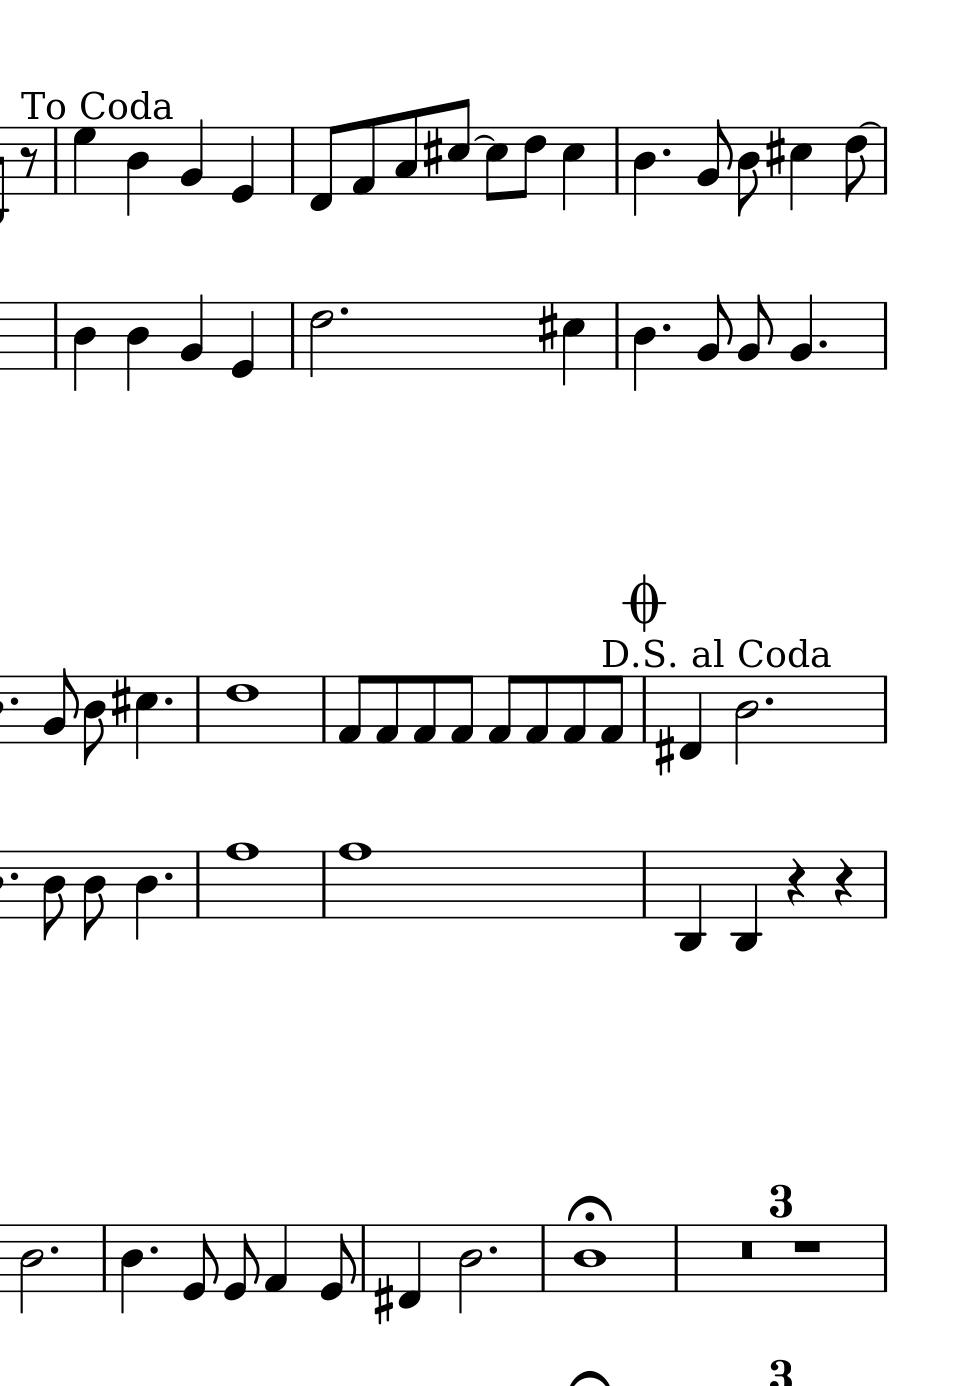1_4: (570, 1222, 607, 1295)
1_6: (223, 674, 260, 747)
1_8: (337, 840, 372, 920), (224, 840, 258, 922)
2_4: (732, 674, 759, 767), (18, 1222, 43, 1314), (456, 1222, 482, 1314)
2_6: (307, 300, 334, 378)
4_-1: (396, 1223, 422, 1312), (677, 674, 703, 762)
4_-3: (676, 846, 705, 955), (731, 847, 759, 955)
4_0: (229, 300, 256, 379), (229, 125, 255, 204)
4_1: (263, 1223, 288, 1295)
4_2: (178, 118, 205, 196), (178, 293, 205, 371), (788, 292, 813, 371)
4_4: (123, 300, 151, 394), (133, 849, 160, 940), (70, 300, 97, 393), (124, 126, 150, 217), (631, 301, 657, 392), (118, 1223, 143, 1314), (632, 125, 657, 216)
4_5: (786, 125, 811, 213), (560, 126, 585, 213), (133, 674, 158, 761), (560, 301, 584, 388)
4_7: (70, 126, 97, 197)
8_-1: (307, 123, 342, 212)
8_0: (318, 1222, 356, 1302), (181, 1222, 218, 1302), (224, 1224, 259, 1303)
8_1: (335, 673, 369, 745), (486, 673, 518, 745), (350, 116, 377, 197), (523, 673, 550, 745), (560, 673, 588, 745), (374, 673, 401, 745), (412, 673, 438, 745), (448, 673, 474, 745), (598, 676, 624, 745)
8_2: (738, 293, 774, 371), (696, 118, 732, 195), (697, 293, 732, 370), (43, 667, 77, 744)
8_3: (391, 108, 420, 197)
8_4: (80, 674, 106, 768), (80, 849, 106, 942), (734, 125, 759, 220), (40, 850, 65, 942)
8_5: (445, 97, 471, 199), (482, 125, 508, 204)
8_6: (515, 125, 547, 200), (841, 126, 869, 205)
Coda: (623, 572, 665, 633)
DSalcoda: (599, 636, 832, 671)
Fermata_above: (566, 1193, 614, 1223)
Rests1: (788, 1236, 826, 1256)
Rests4: (832, 857, 853, 908), (785, 857, 805, 908)
Rests8: (17, 144, 39, 179)
Sharp: (535, 301, 558, 354), (764, 126, 785, 180), (372, 1274, 395, 1324), (110, 676, 132, 729), (653, 725, 675, 776), (421, 127, 442, 177)
Single_barline: (314, 850, 334, 918), (875, 1224, 894, 1292), (189, 852, 207, 917), (876, 850, 893, 919), (608, 303, 626, 368), (315, 676, 332, 743), (876, 676, 893, 743), (875, 128, 892, 194), (876, 302, 893, 368), (189, 676, 206, 741), (667, 1225, 684, 1291), (636, 850, 652, 919), (608, 128, 625, 192), (636, 676, 652, 743), (284, 127, 300, 194), (284, 303, 300, 369), (97, 1225, 112, 1291), (355, 1225, 371, 1291), (47, 303, 63, 368), (535, 1226, 550, 1289), (48, 128, 63, 193)
Slur: (472, 133, 496, 143), (857, 120, 881, 129)
ToCoda: (15, 88, 173, 124)
dot: (763, 695, 776, 710), (659, 145, 672, 160), (337, 304, 351, 319), (816, 337, 829, 352), (47, 1243, 62, 1257), (161, 695, 175, 708), (147, 1243, 160, 1257), (486, 1243, 498, 1257), (660, 321, 672, 334), (162, 870, 175, 882), (8, 695, 19, 707)
